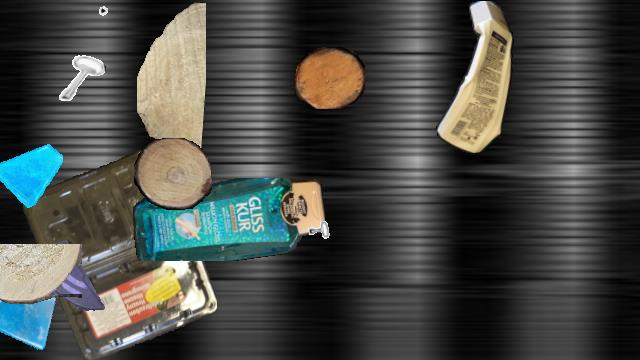glass: (30, 234, 110, 314), (0, 275, 60, 359), (0, 139, 62, 207)
metal: (55, 52, 105, 102), (299, 197, 343, 241), (98, 1, 138, 41), (0, 206, 2, 252)
plastic: (23, 149, 217, 359), (133, 178, 325, 260), (430, 1, 518, 153)
wood: (137, 1, 205, 159), (134, 138, 212, 210), (0, 244, 82, 304), (295, 47, 365, 109)
